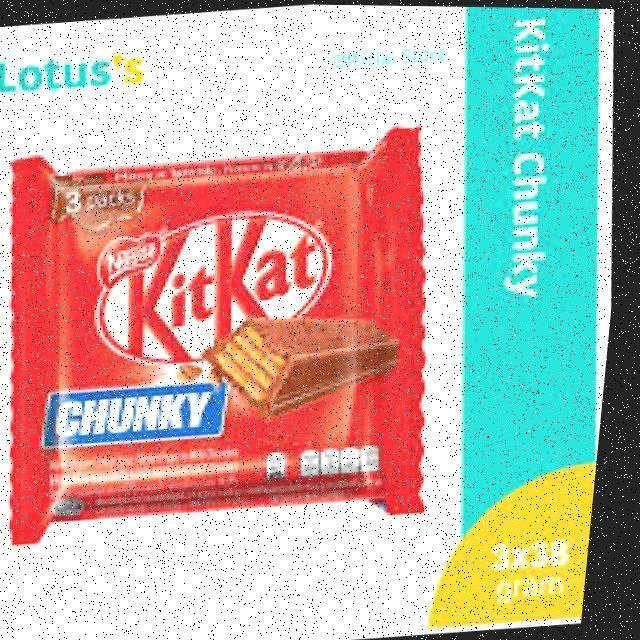kitkat_chocolate: (25, 157, 438, 510)
